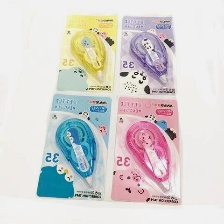correction_fluid: (51, 112, 104, 192), (123, 116, 176, 195), (66, 25, 112, 86), (125, 28, 171, 88)
